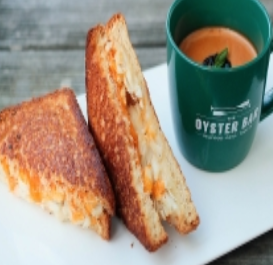pizza: (164, 1, 272, 173)
soup: (85, 15, 200, 251), (0, 85, 116, 241)
